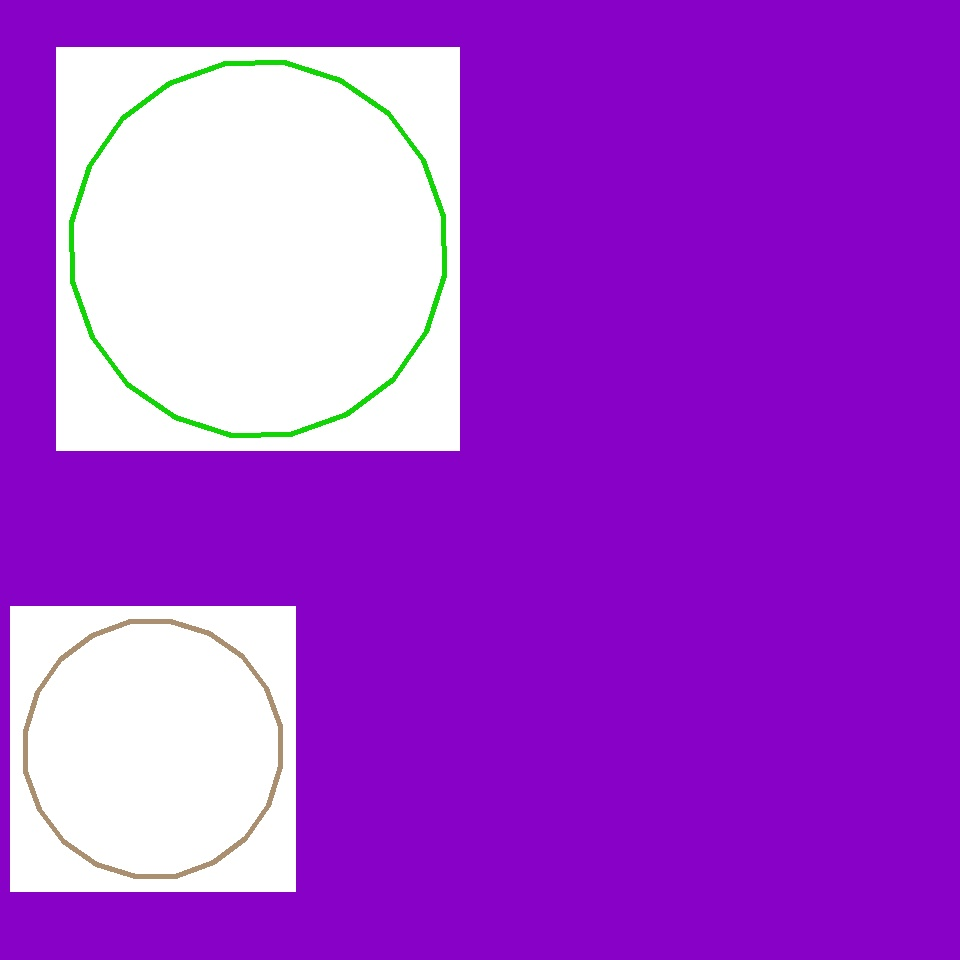circle: (51, 457, 307, 749)
triangle: (71, 63, 444, 436), (25, 622, 280, 876), (226, 356, 346, 474), (444, 856, 546, 956), (439, 478, 536, 576)
